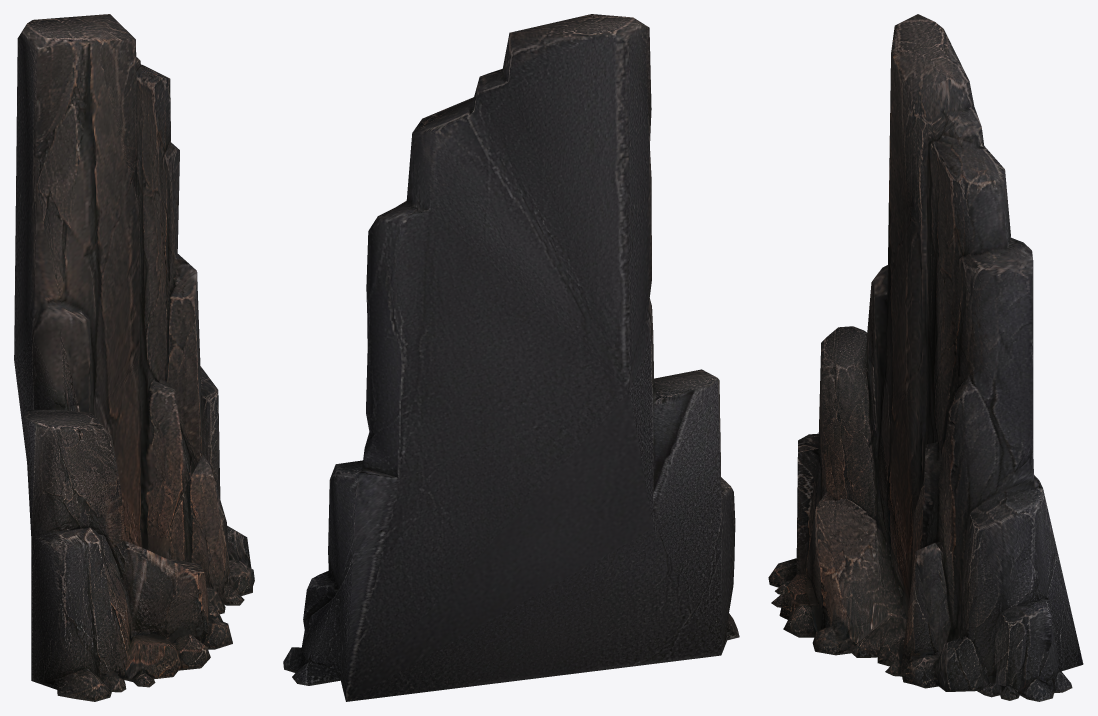
File: tripo_convert_0c9fbadd-6d69-48e9-8c95-7009e7a8e57a.fbx
3 renders of one model, left to right at view 1: azimuth 30°, elevation 25°; view 2: azimuth 150°, elevation 25°; view 3: azimuth 270°, elevation 25°, orthographic. The views are drawn at different scales.
Parts seen in each view (by area): view 1: tripo_node_0c9fbadd; view 2: tripo_node_0c9fbadd; view 3: tripo_node_0c9fbadd.
Part boxes in pixels (box(x1,y1,x2,y2)): tripo_node_0c9fbadd: box(14, 14, 254, 701); tripo_node_0c9fbadd: box(283, 14, 739, 701); tripo_node_0c9fbadd: box(768, 14, 1083, 701).
Bounding box in the file's own units: 0.5137 × 0.998 × 0.502.
1 material, 1 textured.
